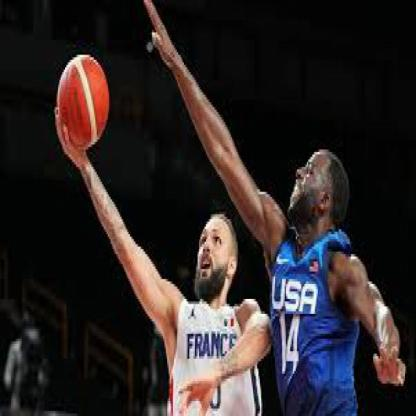basketball: (57, 52, 109, 148)
